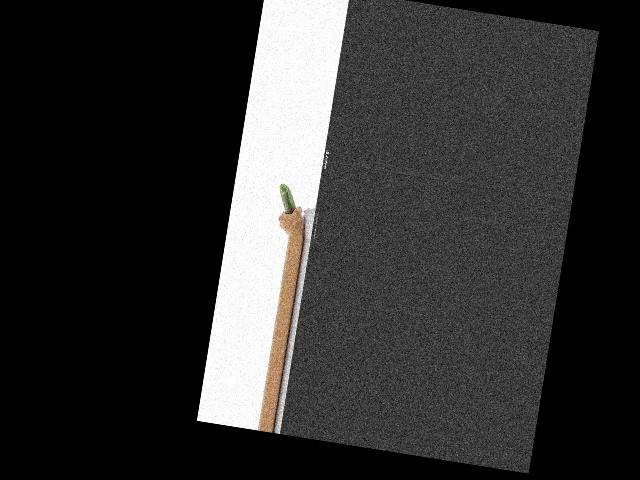cucumber: (275, 183, 299, 215)
